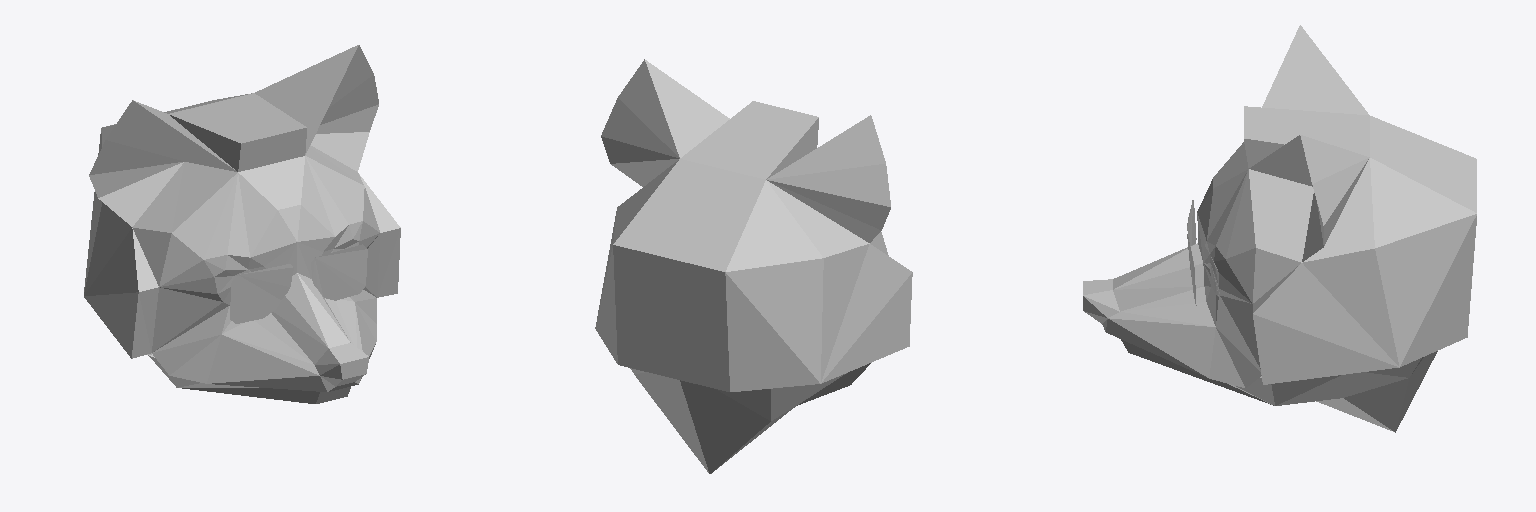
Rendered from Fox McCloud - Expert Mode (Head).obj.
3 views of the same model, side by side, from view 1: azimuth 30°, elevation 25°; view 2: azimuth 150°, elevation 25°; view 3: azimuth 270°, elevation 25° (orthographic).
Visible parts, largest first — view 1: ShapeIndexedFaceSet.116; view 2: ShapeIndexedFaceSet.116; view 3: ShapeIndexedFaceSet.116.
Boxes of the visible parts, box(x1,y1,x2,y2) form: ShapeIndexedFaceSet.116: box(84, 45, 400, 403); ShapeIndexedFaceSet.116: box(595, 59, 912, 473); ShapeIndexedFaceSet.116: box(1083, 25, 1476, 432).
Size of the model in its own units: 0.7414 by 0.861 by 0.8727.